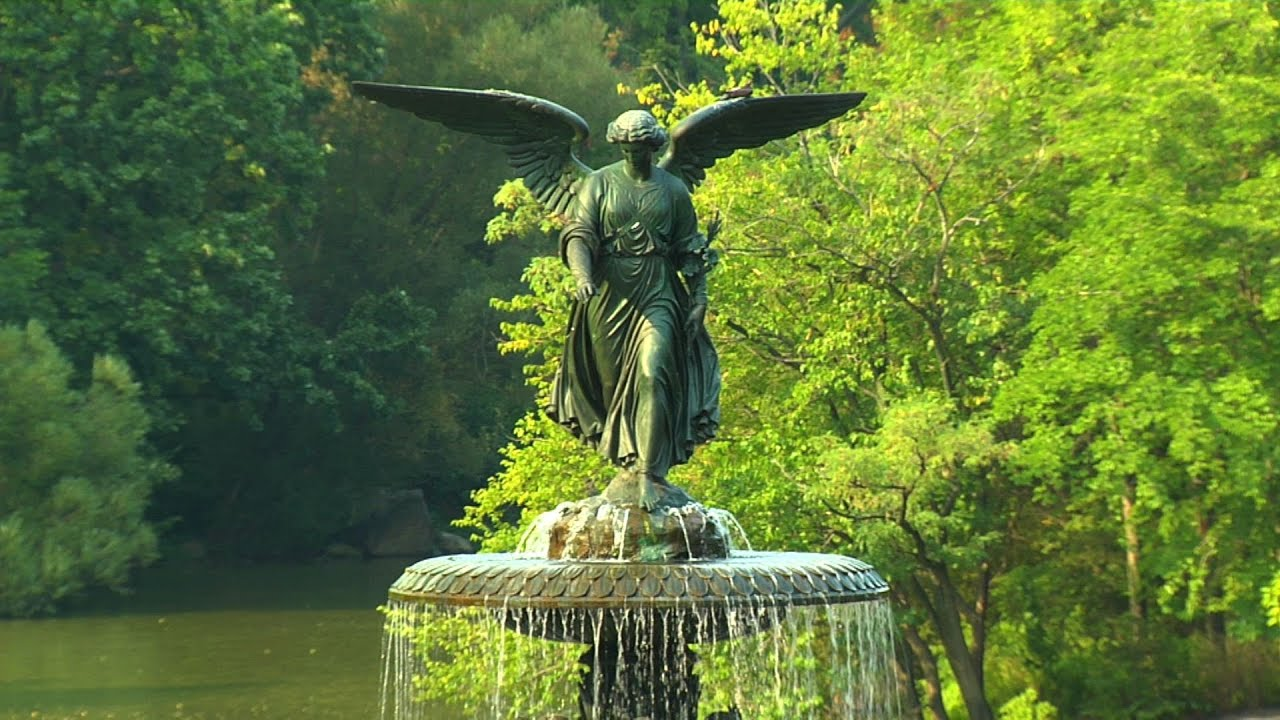person-like: (556, 103, 730, 517)
